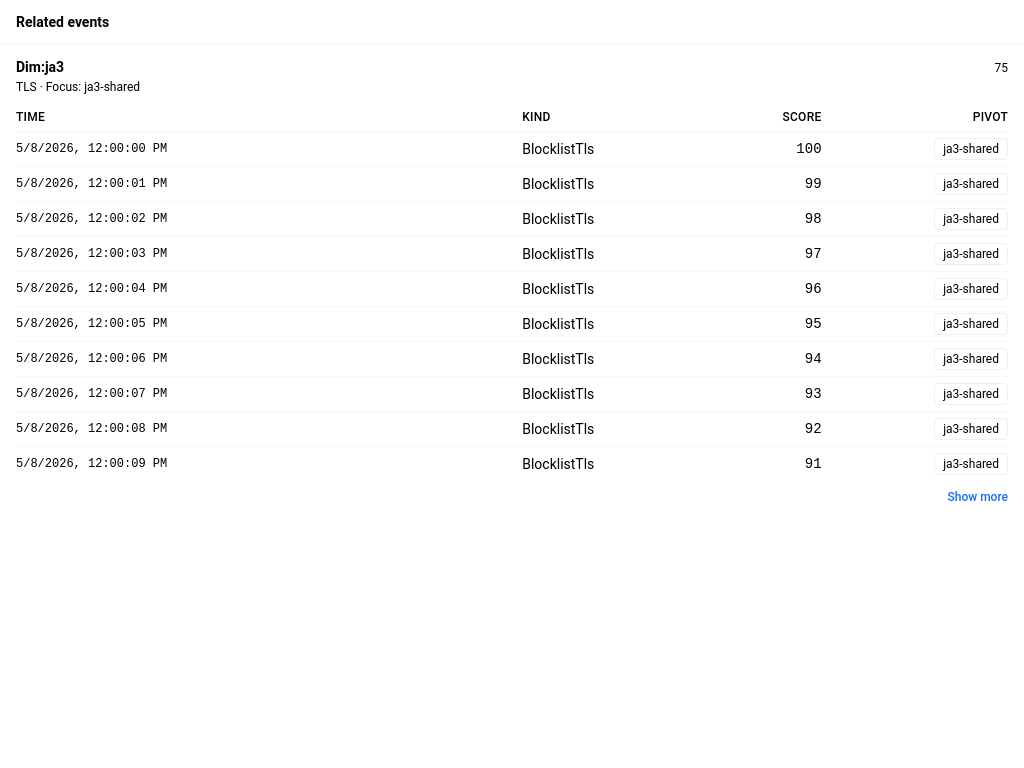
Test case: TriagePivotPanel — collapsed/expanded cap hint › renders 'Showing 50 of N' only after the user clicks Show more
Click the button "Show more": (978, 497) 948,489 -> 1008,505
(page scrolled)
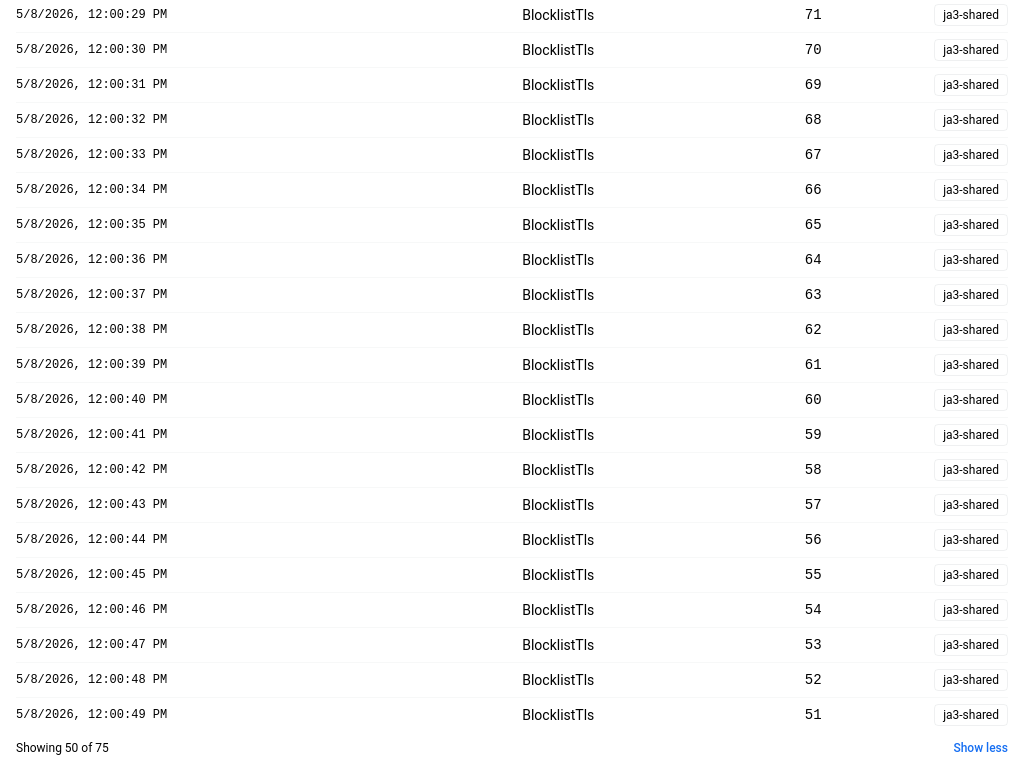
Now the text "Showing 50 of 75" is shown, box 16,740 -> 109,756
Now the button "Show more" is gone
Now the button "Show less" is shown, box 953,740 -> 1008,756
